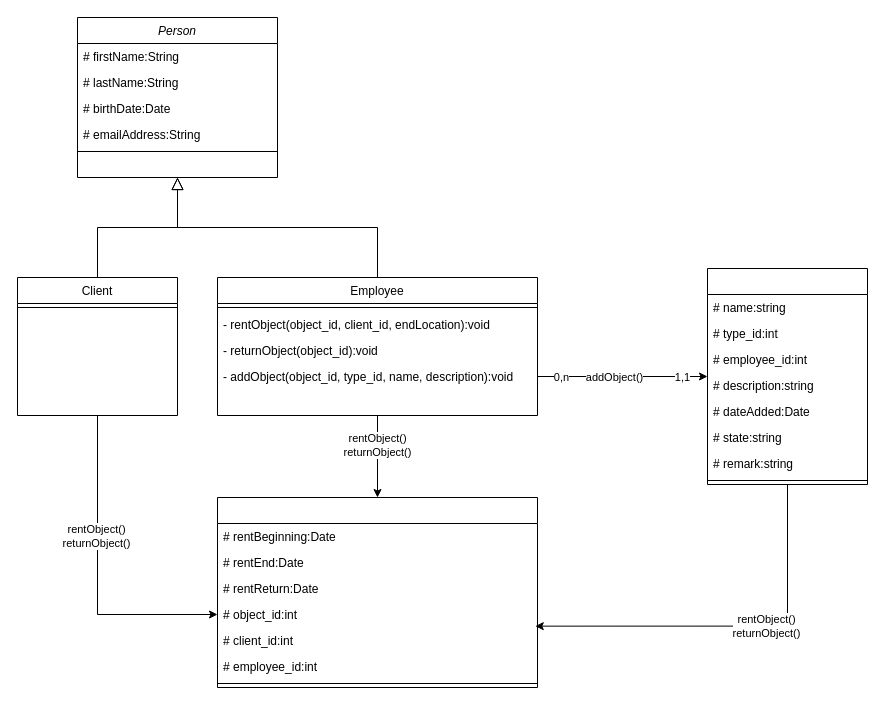
The diagram is 885 pixels wide and 705 high, and some of its shapes have lost their labels. Here are the shapes that lost their labels. From the top down, the box of each, then its label:
(706, 268, 868, 484): Objects
(216, 496, 538, 688): Locations
